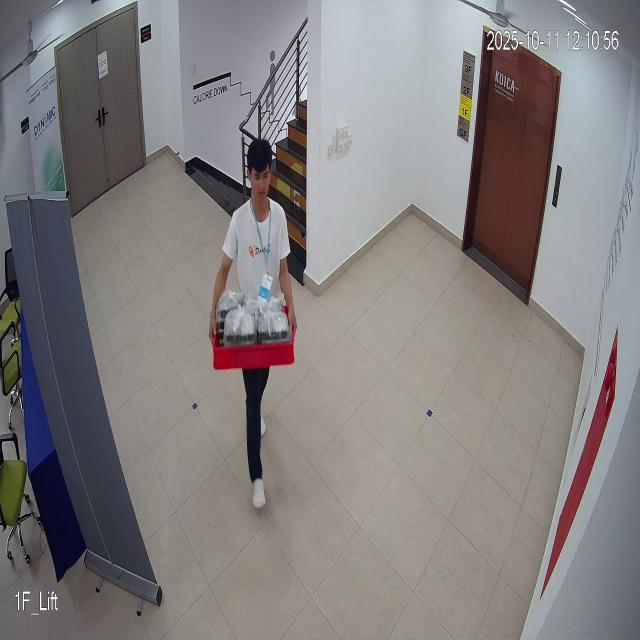face: (245, 132, 278, 224)
